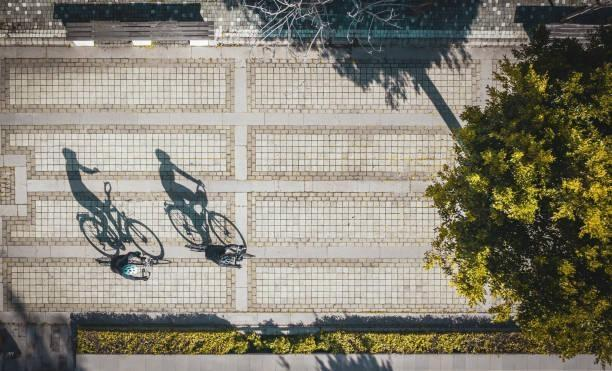Motorcycle: (101, 250, 172, 281), (204, 239, 257, 267)
